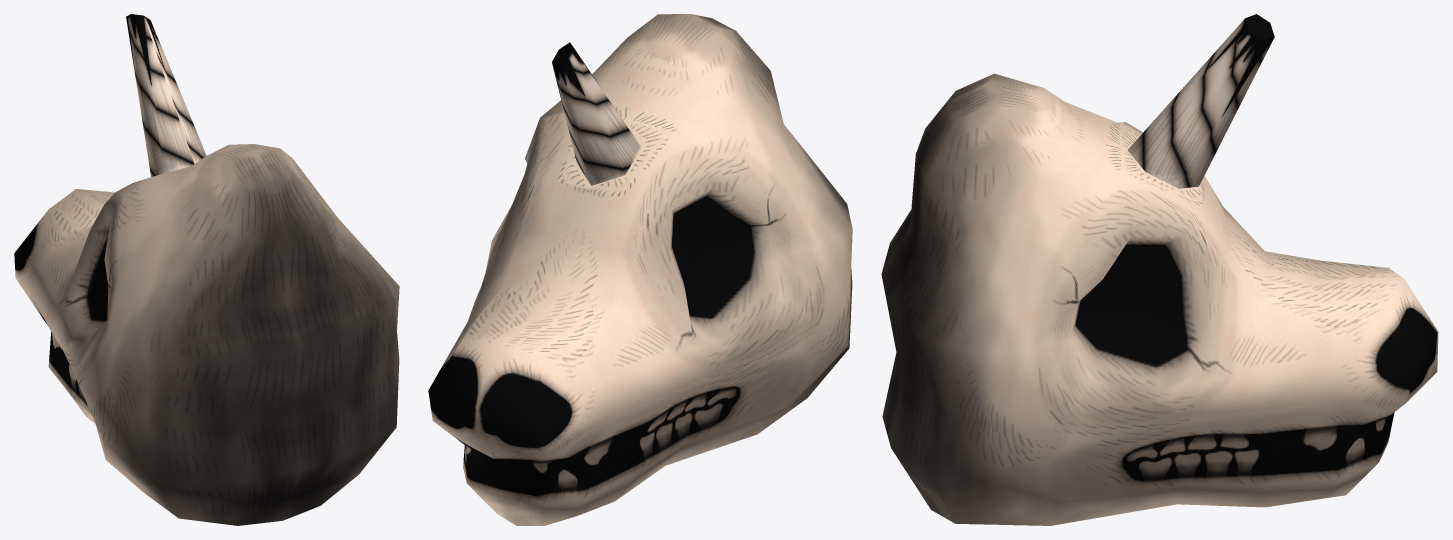
The model's file is pigSkull_export.fbx.
The picture shows the model from 3 angles, left to right: view 1: azimuth 30°, elevation 25°; view 2: azimuth 150°, elevation 25°; view 3: azimuth 270°, elevation 25°; orthographic projection. The views are drawn at different scales.
Visible parts, largest first — view 1: pCube3; view 2: pCube3; view 3: pCube3.
Boxes of the visible parts, x1,y1,x2,y2 form: pCube3: (14, 14, 399, 525); pCube3: (428, 14, 852, 525); pCube3: (881, 14, 1438, 525).
Bounding box in the file's own units: 0.2652 × 0.3474 × 0.3701.
